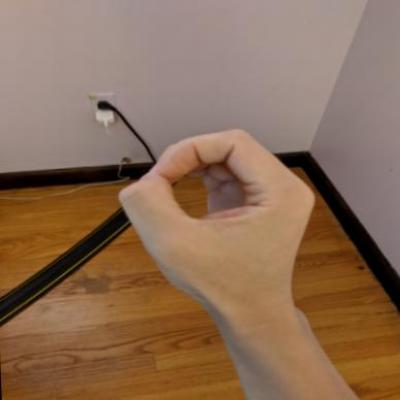hand: (111, 121, 324, 318)
